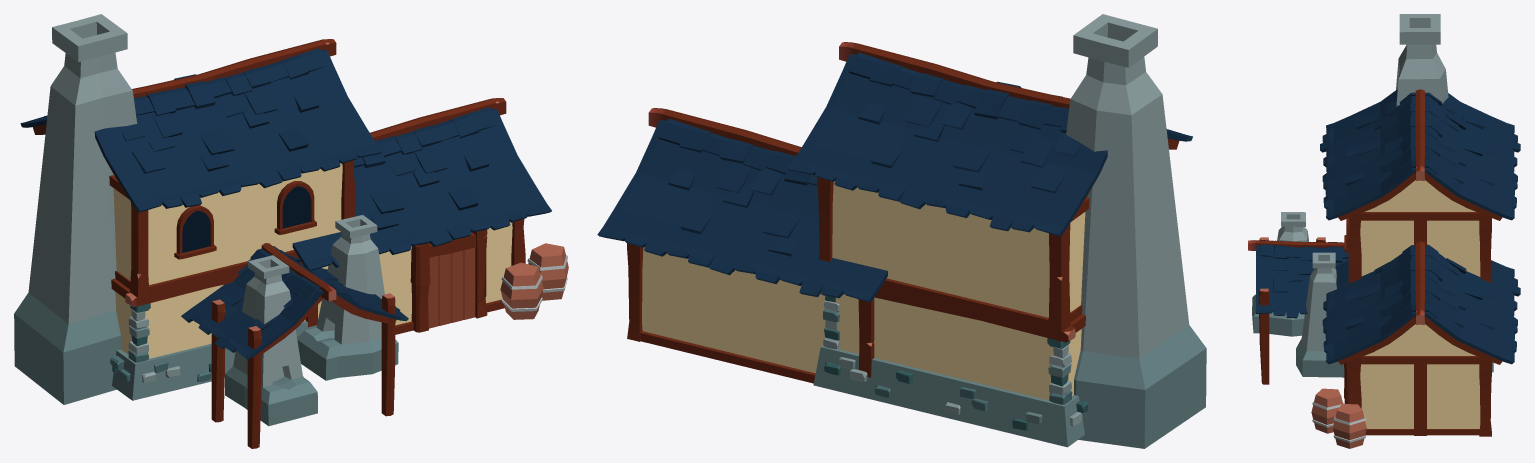
The model's file is SM_Blacksmith_LODS_Group.fbx.
3 views of the same model, side by side, from view 1: azimuth 30°, elevation 25°; view 2: azimuth 150°, elevation 25°; view 3: azimuth 270°, elevation 25° (orthographic). The views are drawn at different scales.
Parts seen in each view (by area): view 1: SM_Blacksmith_LOD0; view 2: SM_Blacksmith_LOD0; view 3: SM_Blacksmith_LOD0.
Boxes of the visible parts, bbox=[...] form: SM_Blacksmith_LOD0: bbox=[14, 14, 568, 448]; SM_Blacksmith_LOD0: bbox=[597, 14, 1206, 448]; SM_Blacksmith_LOD0: bbox=[1248, 14, 1520, 448].
Size of the model in its own units: 652 by 421 by 461.
